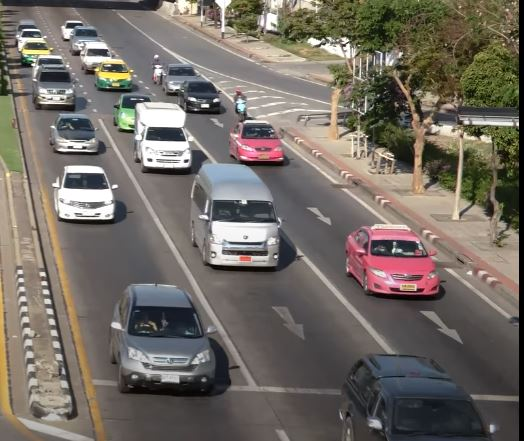Car: (338, 353, 500, 441), (108, 282, 217, 389), (186, 161, 282, 267), (344, 222, 441, 297), (133, 101, 191, 171), (53, 165, 115, 222), (228, 119, 283, 164), (49, 112, 100, 154), (32, 63, 76, 107), (113, 93, 154, 132), (179, 79, 221, 113), (95, 59, 132, 91), (162, 63, 199, 94), (79, 40, 112, 72), (70, 25, 101, 53), (20, 40, 52, 66), (60, 19, 85, 41)
Motorcycle: (232, 88, 250, 123), (150, 54, 166, 84)
